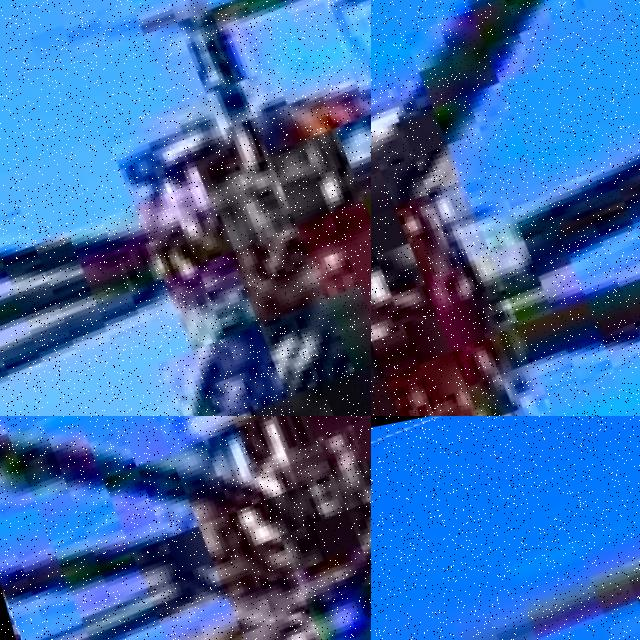drone: (0, 0, 371, 416), (371, 0, 640, 416), (0, 416, 371, 640), (371, 416, 640, 640)
